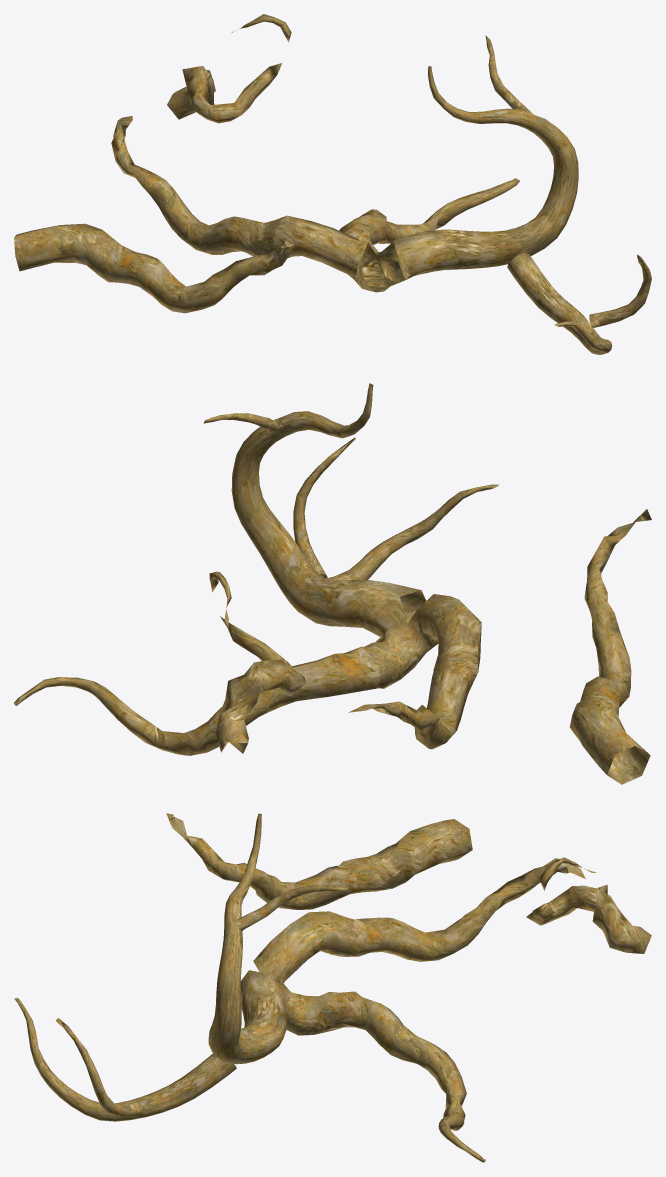
File: NaveeBioSkib17_CleanUp_x02_Roedder4_glb04.glb
3 views of the same model, one above another, from view 1: azimuth 30°, elevation 25°; view 2: azimuth 150°, elevation 25°; view 3: azimuth 270°, elevation 25° (orthographic). The views are drawn at different scales.
Parts seen in each view (by area): view 1: Grene.004; view 2: Grene.004; view 3: Grene.004.
Boxes of the visible parts, x1=… form: Grene.004: x1=14, y1=14, x2=651, y2=354; Grene.004: x1=14, y1=383, x2=651, y2=784; Grene.004: x1=14, y1=813, x2=651, y2=1162.
Size of the model in its own units: 0.7072 by 0.343 by 0.7238.
1 material, 1 textured.
